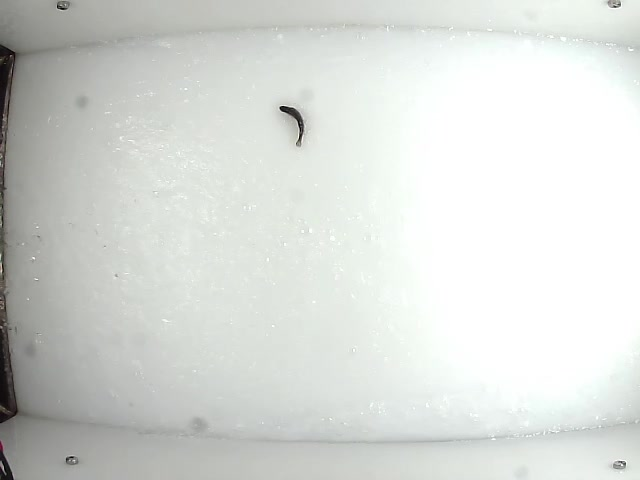fish: (275, 105, 308, 151)
